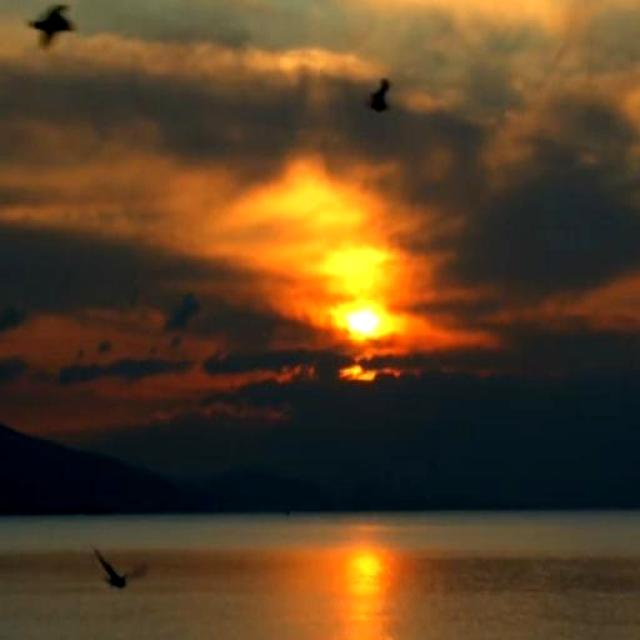airplane: (89, 534, 145, 596), (21, 0, 78, 49), (368, 62, 394, 114)
